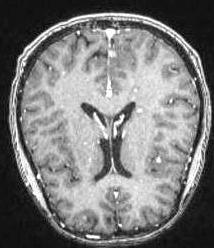Normal_Brain: (1, 1, 214, 248)
